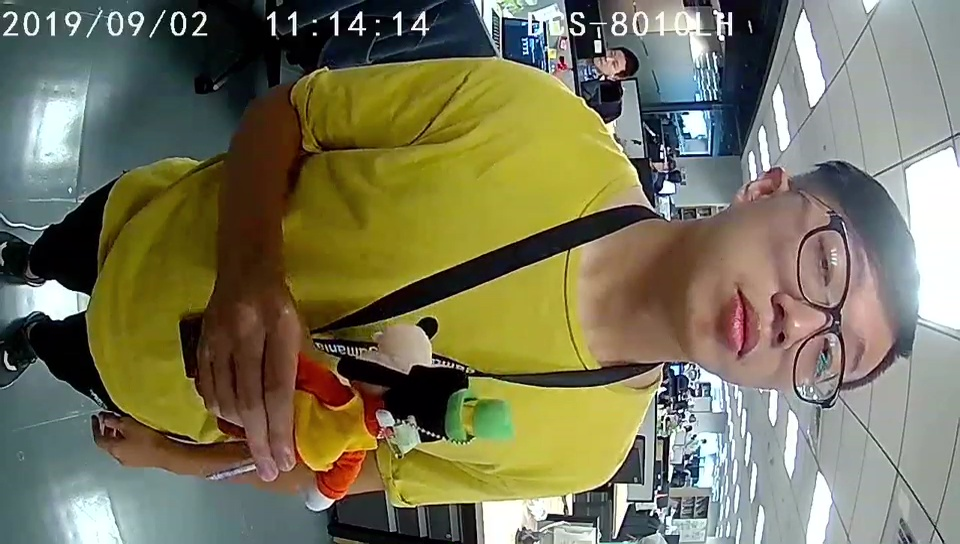goofy: (299, 355, 515, 510)
